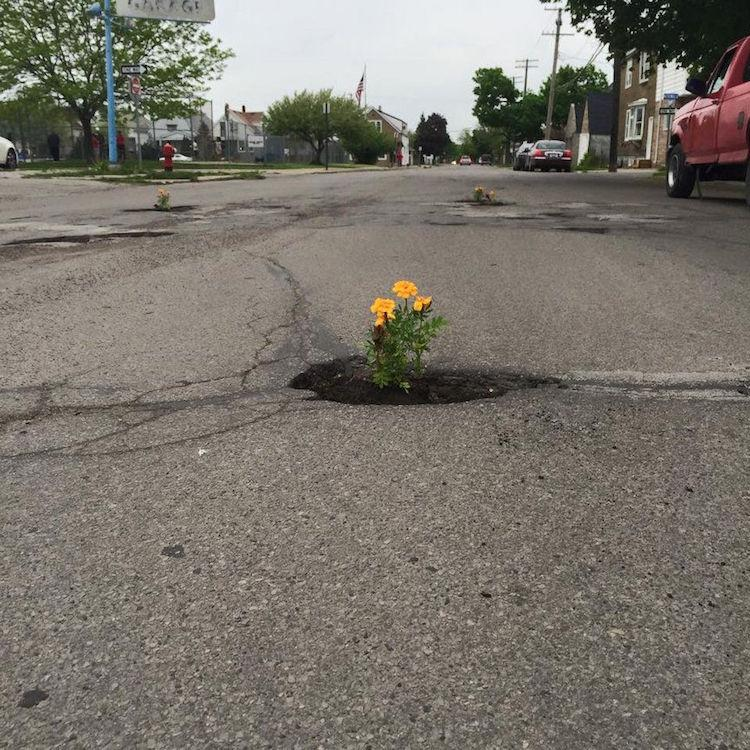Pothole: (276, 351, 561, 416)
